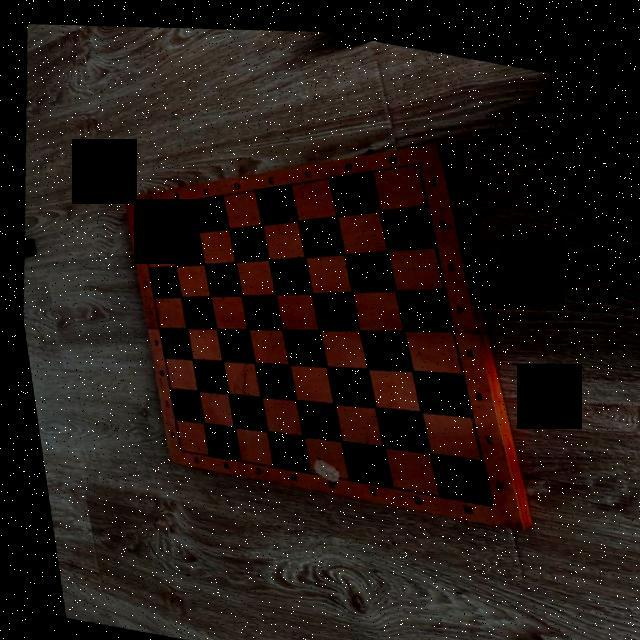chess-table-corners: (409, 149, 423, 161), (478, 489, 492, 500), (170, 443, 178, 451), (131, 202, 138, 209)
